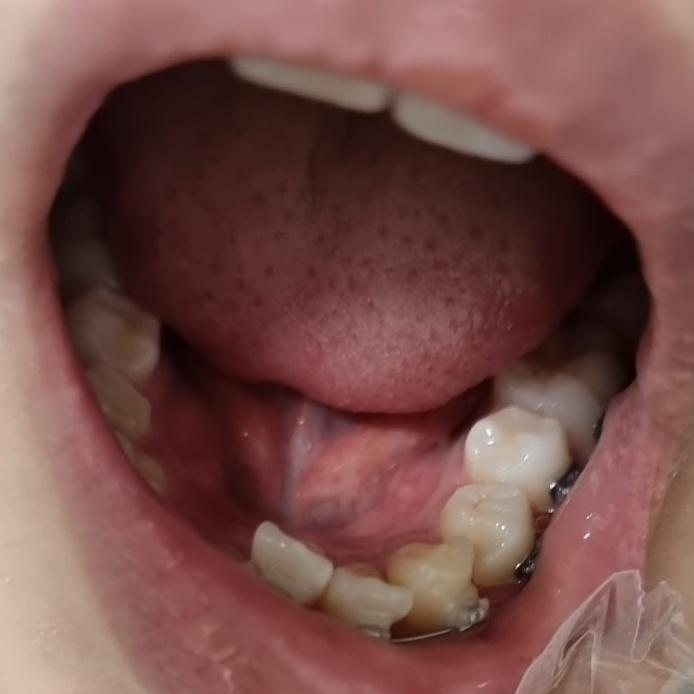Crowding: (324, 540, 481, 624)
